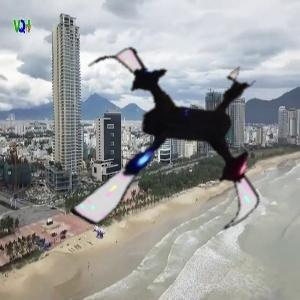drone: (52, 32, 283, 263)
